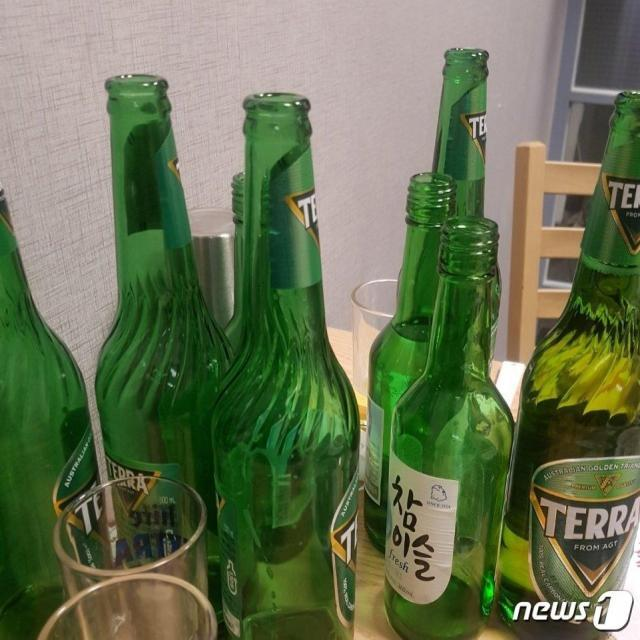beer-bottle: (188, 82, 370, 640), (93, 72, 236, 640), (493, 89, 640, 640), (0, 167, 122, 640), (428, 46, 504, 386)
soju-bottle: (382, 210, 517, 640), (361, 171, 462, 560), (216, 168, 264, 362)
